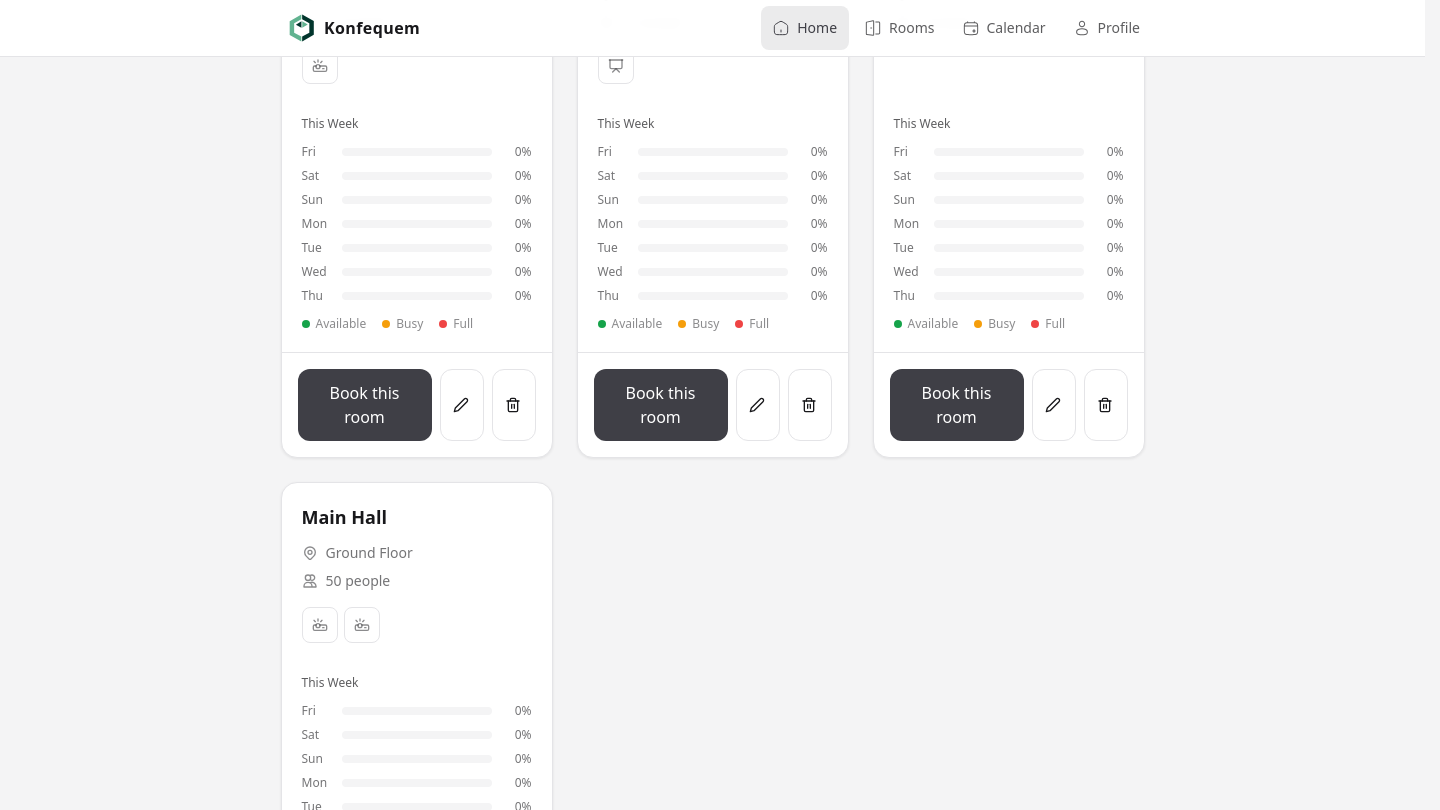
Test: RoomsPage room management › keeps the confirm dialog open when deletion is blocked
This screenshot has width=1440, height=810.
(page scrolled)
Click the button named "Delete room Conference Room B".
click(810, 405)  # box [788, 369, 832, 441]
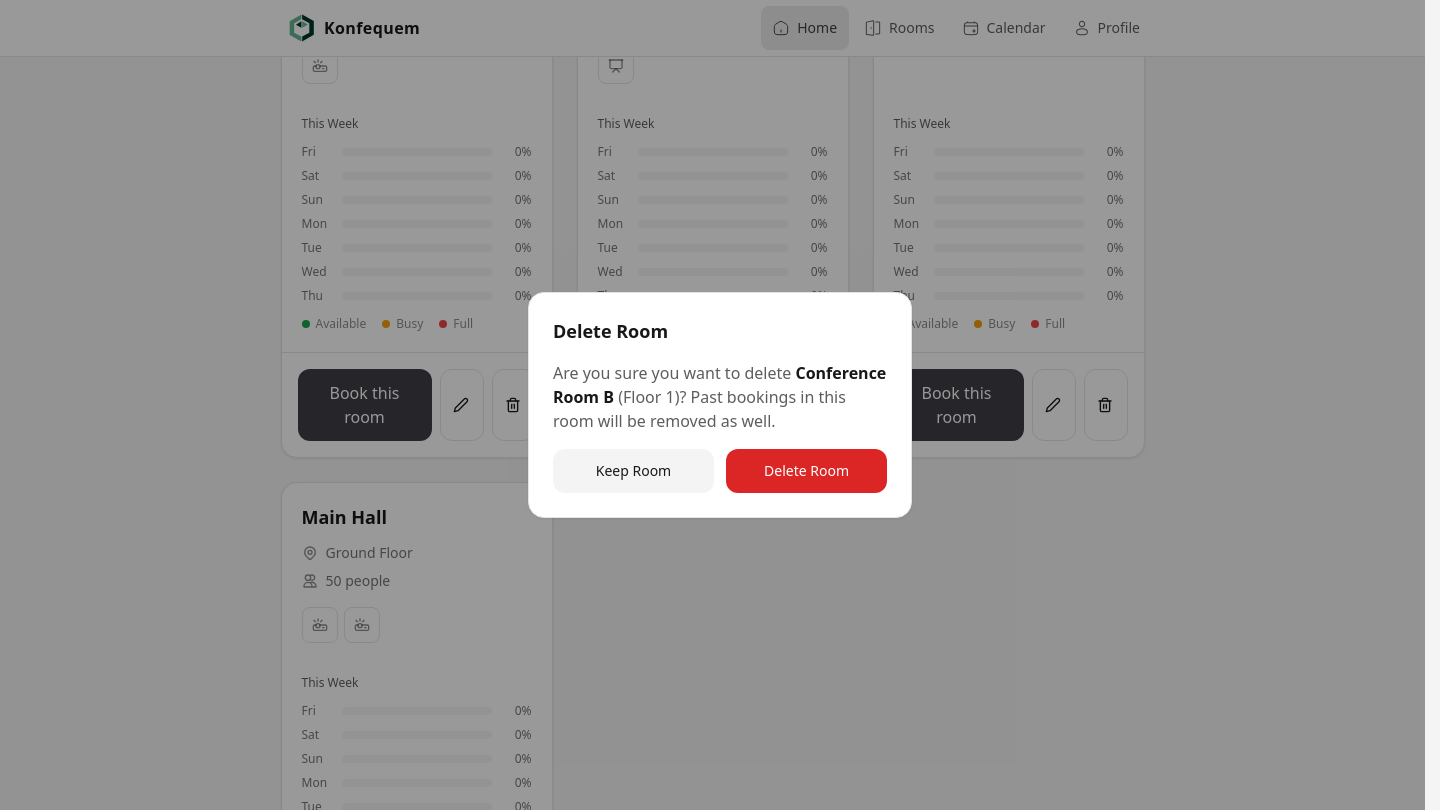
Click the button "Delete Room".
click(806, 471)  # box [726, 449, 887, 493]
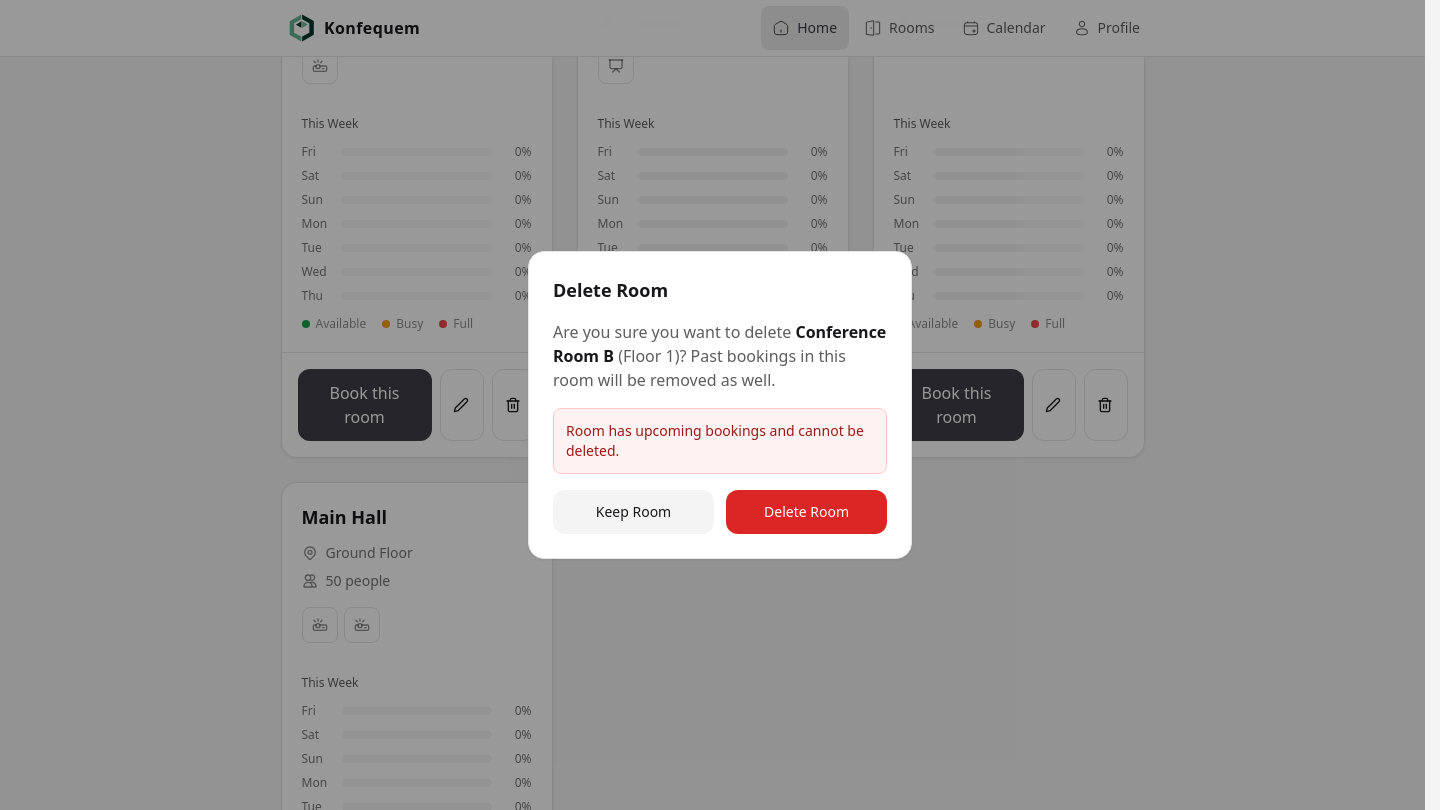
expect the dialog is shown: met
expect the text "Room has upcoming bookings and cannot be deleted." is shown: met, box [553, 408, 887, 474]
